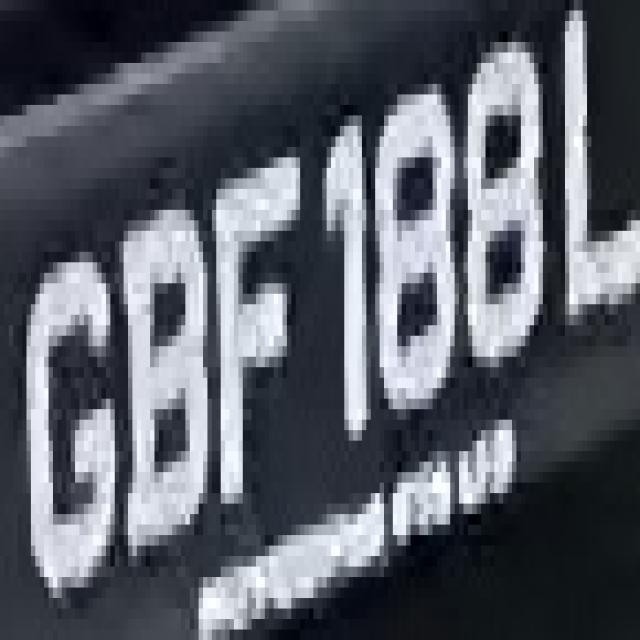1: (309, 94, 375, 462)
8: (454, 42, 552, 399), (366, 74, 451, 472)
B: (110, 189, 212, 535)
F: (194, 157, 309, 503)
G: (18, 210, 110, 640)
L: (4, 0, 4, 6)
